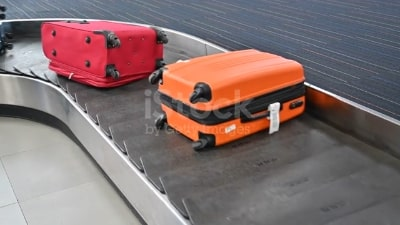baggage: (147, 49, 312, 151), (33, 16, 169, 89)
